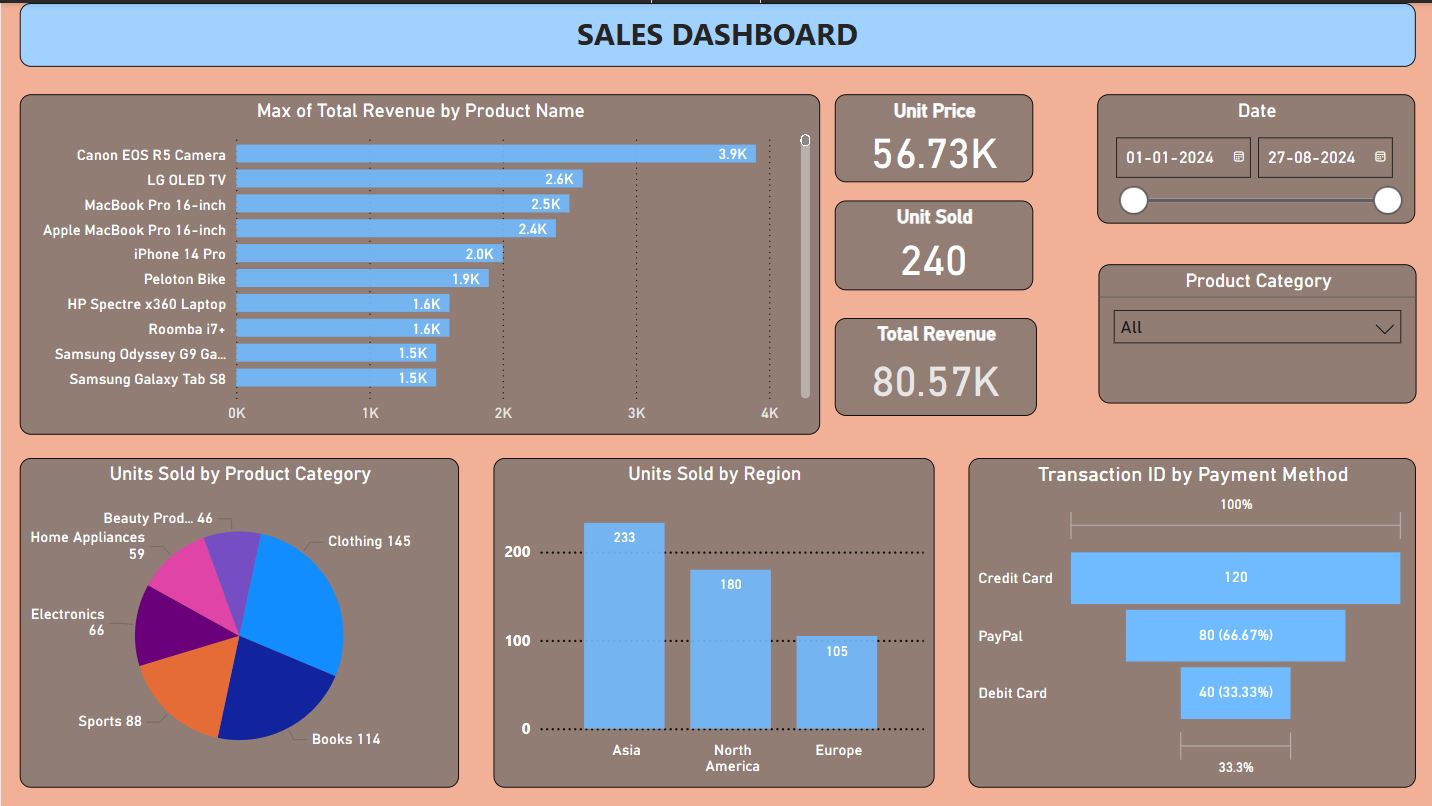

This screenshot's page, from the dashboard's own definition file:
{"tool":"powerbi","page":{"name":"Page 1","canvas":[1280,720],"ordinal":0},"visuals":[{"type":"card","title":"Total Revenue","fields":{"Values":["Sum(Sheet1.Total Revenue)"]},"box":[742.3,281,180.4,87.1],"z":0},{"type":"card","title":"Unit Price","fields":{"Values":["Sum(Sheet1.Unit Price)"]},"box":[742.3,81,176.7,78.5],"z":1000},{"type":"card","title":"Unit Sold","fields":{"Values":["CountNonNull(Sheet1.Units Sold)"]},"box":[742.3,175.5,176.7,79.8],"z":2000},{"type":"columnChart","title":"Units Sold by Region","fields":{"Category":["Sheet1.Region"],"Y":["Sum(Sheet1.Units Sold)"]},"box":[438,404.9,392.6,293.3],"z":3000},{"type":"pieChart","title":"Units Sold by Product Category","fields":{"Y":["Sum(Sheet1.Units Sold)"],"Category":["Sheet1.Product Category"]},"box":[17.2,404.9,391.4,293.3],"z":4000},{"type":"funnel","title":" Transaction ID by Payment Method","fields":{"Y":["CountNonNull(Sheet1.Transaction ID)"],"Category":["Sheet1.Payment Method"]},"box":[861.4,404.9,398.8,293.3],"z":5000},{"type":"barChart","fields":{"Category":["Sheet1.Product Name"],"Y":["Max(Sheet1.Total Revenue)"]},"box":[17.2,81,712.9,303.1],"z":6000},{"type":"slicer","title":"Product Category","fields":{"Values":["Sheet1.Product Category"]},"box":[977.9,233.1,283.4,123.9],"z":7000},{"type":"slicer","title":"Date","fields":{"Values":["Sheet1.Date"]},"box":[976.7,81,283.4,115.3],"z":8000},{"type":"textbox","box":[17.2,0,1243,56.4],"z":11000}]}

Visuals, with their boxes in screenshot pixels (x1, y1, x2, y2), scaled from the page's 1280x720 canvas onto the 1432x806 screenshot:
"Total Revenue" card: bbox(830, 315, 1032, 412)
"Unit Price" card: bbox(830, 91, 1028, 179)
"Unit Sold" card: bbox(830, 196, 1028, 286)
"Units Sold by Region" columnChart: bbox(490, 453, 929, 782)
"Units Sold by Product Category" pieChart: bbox(19, 453, 457, 782)
" Transaction ID by Payment Method" funnel: bbox(964, 453, 1410, 782)
barChart - Sheet1.Product Name x Max(Sheet1.Total Revenue): bbox(19, 91, 817, 430)
"Product Category" slicer: bbox(1094, 261, 1411, 400)
"Date" slicer: bbox(1093, 91, 1410, 220)
textbox: bbox(19, 0, 1410, 63)
